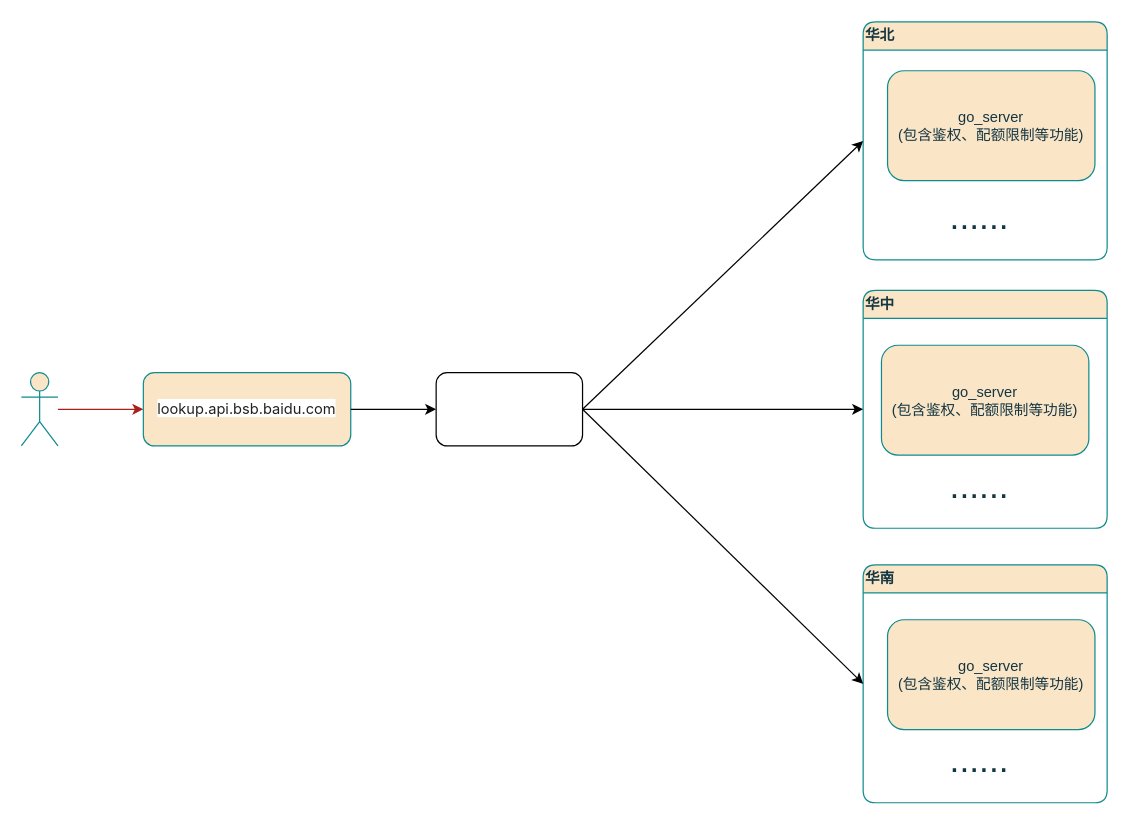
Image size: 1129x824. Some labels were removed from this diagram. The box of each missing label's shape, as (x1, y1, x2, y2) in pixels:
Actor: (20, 371, 58, 446)
BNS group: (435, 371, 583, 446)
